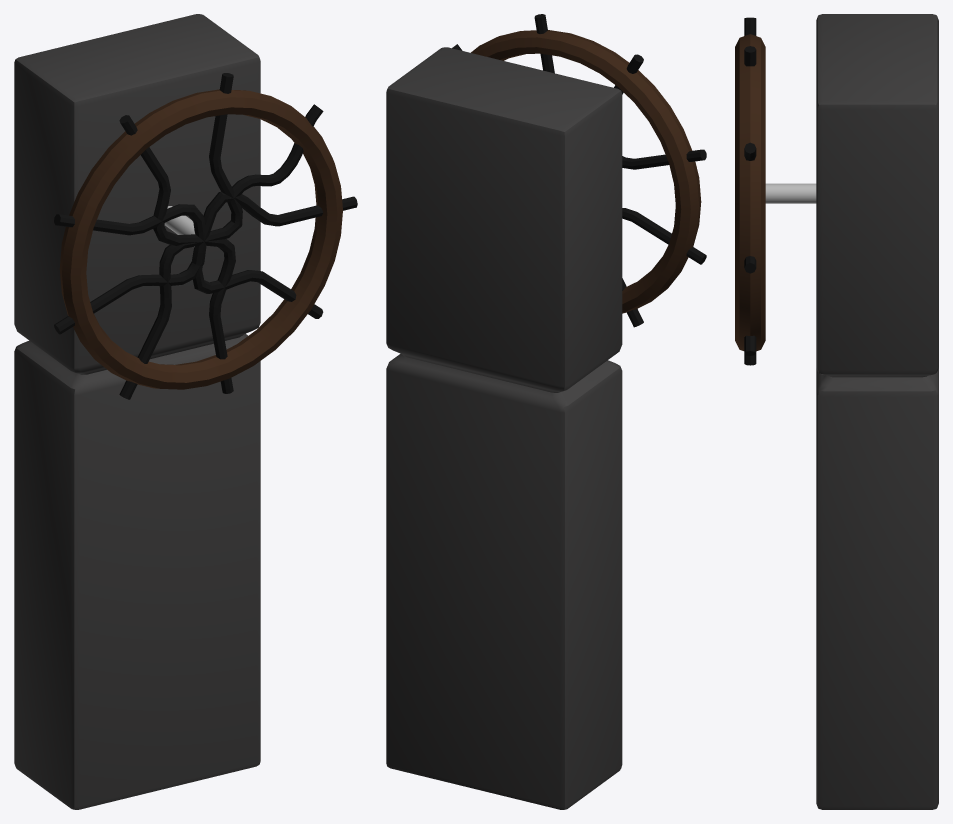
Rendered from timon 1.fbx.
3 views of the same model, side by side, from view 1: azimuth 30°, elevation 25°; view 2: azimuth 150°, elevation 25°; view 3: azimuth 270°, elevation 25° (orthographic). The views are drawn at different scales.
Visible parts, largest first — view 1: Box002, Shape001; view 2: Box002, Shape001; view 3: Box002, Shape001.
Part boxes in pixels (box(x1,y1,x2,y2)): Box002: box(14, 14, 260, 809); Shape001: box(54, 73, 357, 399); Box002: box(386, 47, 622, 809); Shape001: box(452, 14, 706, 327); Box002: box(816, 14, 938, 809); Shape001: box(735, 17, 816, 365).
Size of the model in its own units: 52.1 by 122 by 30.87.
